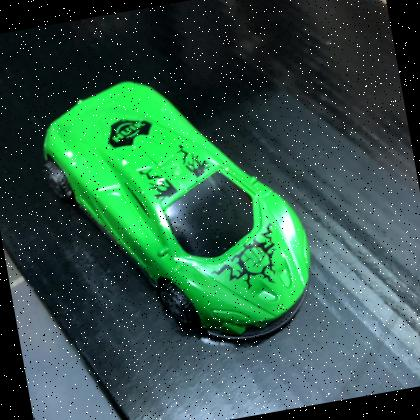Car: (42, 82, 311, 345)
